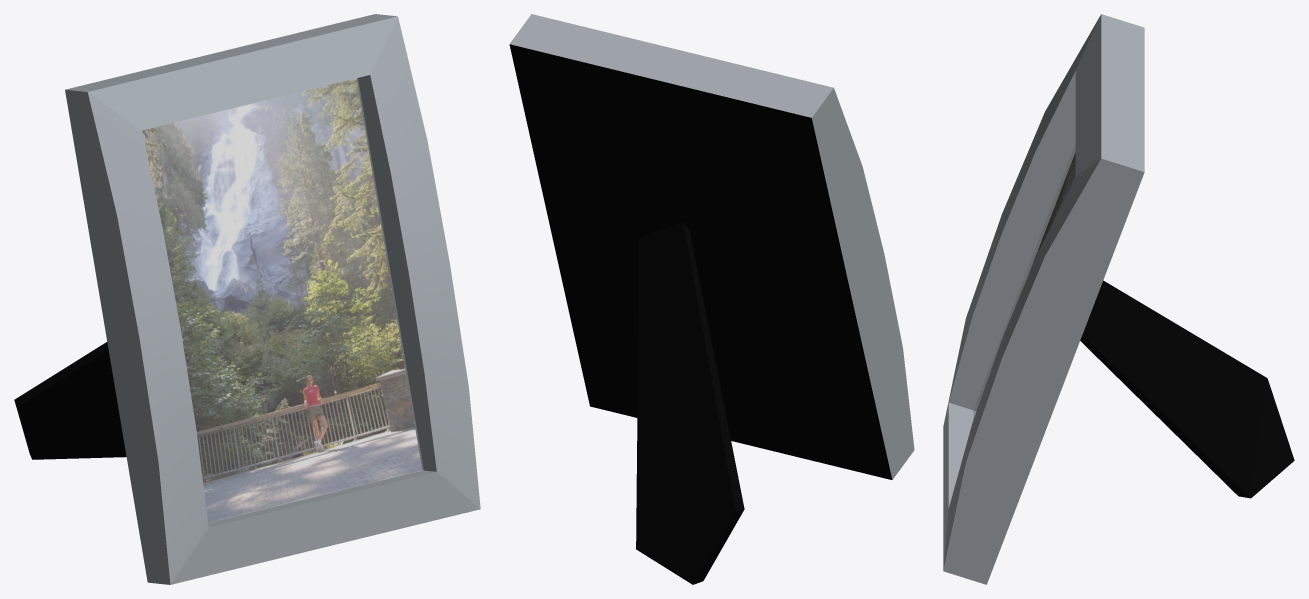
The model's file is Picture_Frame.fbx.
The picture shows the model from 3 angles, left to right: view 1: azimuth 30°, elevation 25°; view 2: azimuth 150°, elevation 25°; view 3: azimuth 270°, elevation 25°; orthographic projection. The views are drawn at different scales.
Visible parts, largest first — view 1: Frame_01, Crystal; view 2: Frame_01; view 3: Frame_01, Crystal.
Boxes of the visible parts, x1=… form: Frame_01: x1=14, y1=14, x2=480, y2=584; Crystal: x1=142, y1=78, x2=423, y2=522; Frame_01: x1=509, y1=14, x2=914, y2=584; Frame_01: x1=943, y1=14, x2=1294, y2=584; Crystal: x1=973, y1=144, x2=1075, y2=418.
Bounding box in the file's own units: 0.1826 × 0.2512 × 0.1876.
2 materials, 1 textured.
